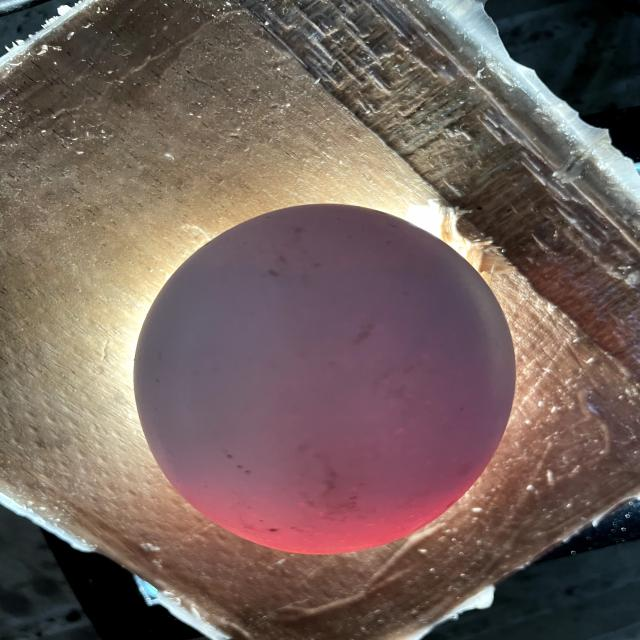fertile: (135, 204, 515, 554)
